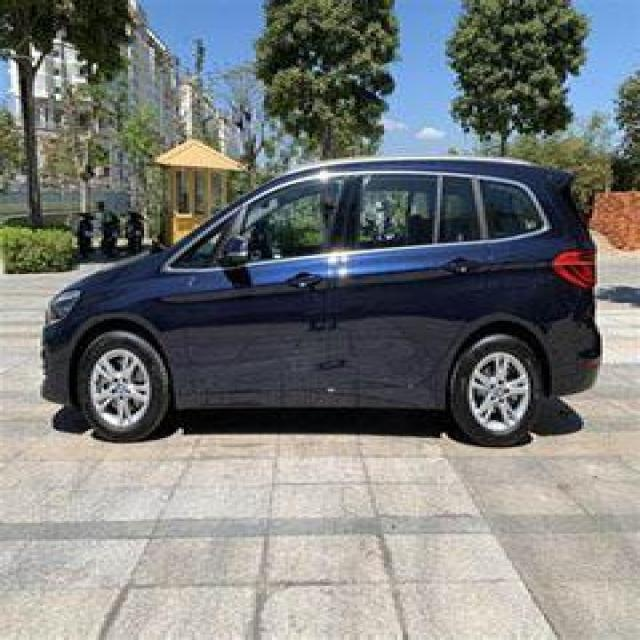car: (16, 85, 621, 487)
